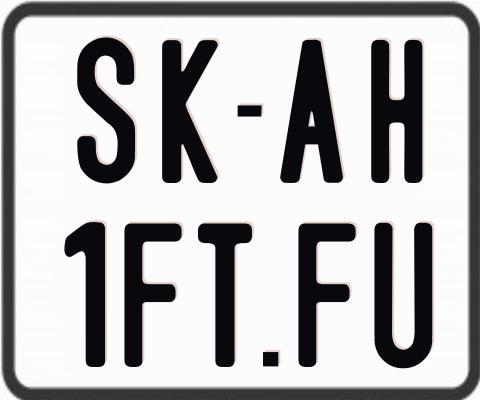1: (62, 221, 106, 372)
A: (280, 38, 344, 186)
F: (295, 221, 359, 366), (122, 220, 183, 364)
H: (369, 37, 424, 181)
K: (162, 37, 221, 183)
S: (75, 36, 133, 183)
T: (197, 223, 253, 373)
U: (372, 223, 433, 373)
